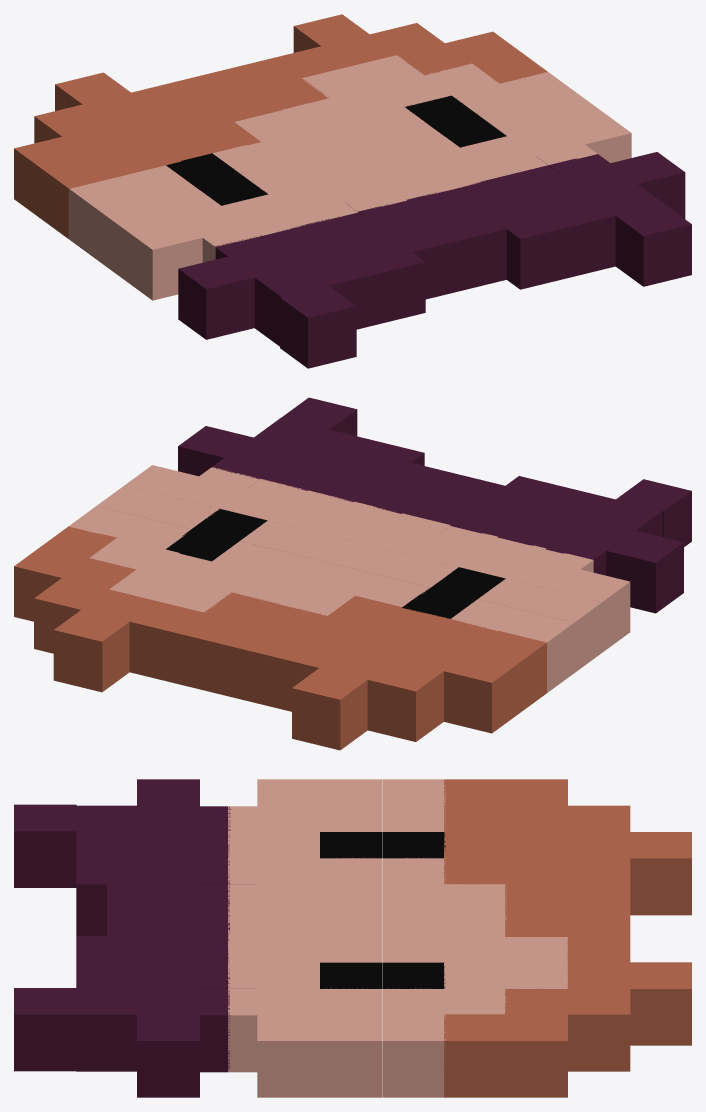
Rendered from Enemy2.FBX.
3 renders of one model, top to bottom at view 1: azimuth 30°, elevation 25°; view 2: azimuth 150°, elevation 25°; view 3: azimuth 270°, elevation 25°, orthographic. The views are drawn at different scales.
Visible parts, largest first — view 1: Box105; view 2: Box105; view 3: Box105.
Boxes of the visible parts, <box> form: Box105: <box>14,14,691,368</box>; Box105: <box>14,397,691,750</box>; Box105: <box>14,779,691,1097</box>.
Size of the model in its own units: 0.389 by 0.0394 by 0.4257.
